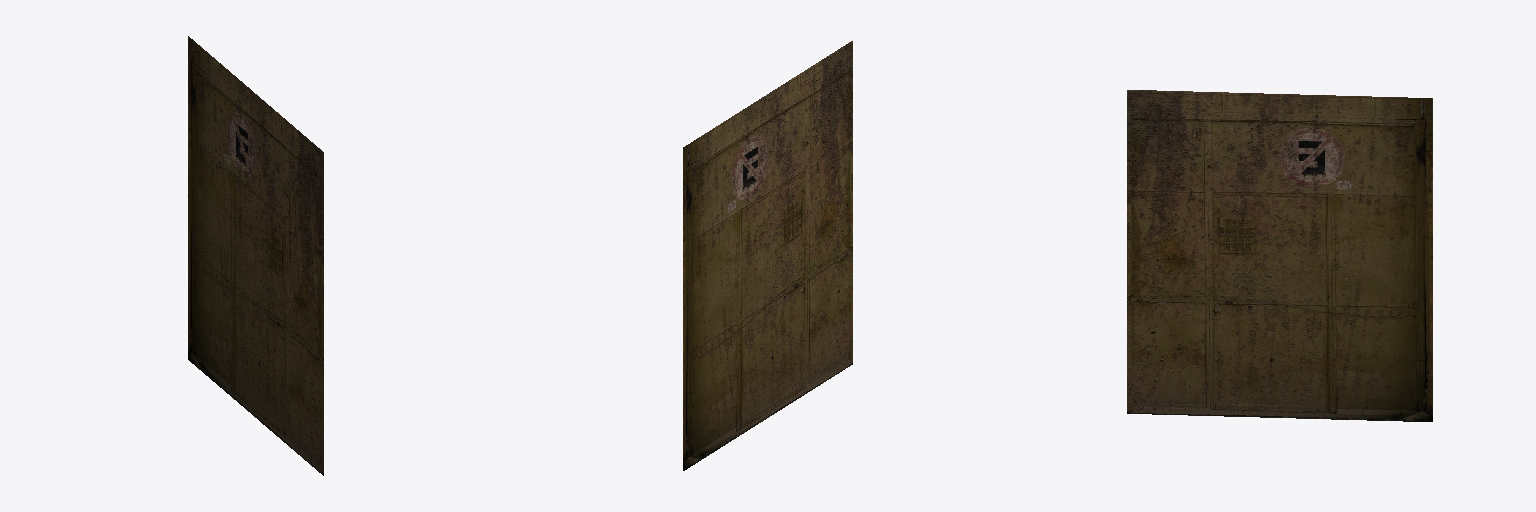
3 renders of one model, left to right at view 1: azimuth 30°, elevation 25°; view 2: azimuth 150°, elevation 25°; view 3: azimuth 270°, elevation 25°, orthographic.
Visible parts, largest first — view 1: poartaDreapta; view 2: poartaDreapta; view 3: poartaDreapta.
Part boxes in pixels (bbox=[...]): poartaDreapta: bbox=[188, 36, 323, 475]; poartaDreapta: bbox=[683, 41, 852, 470]; poartaDreapta: bbox=[1127, 90, 1432, 421].
Bounding box in the file's own units: 0.8529 × 15.11 × 12.92.
1 materials, 1 textured.